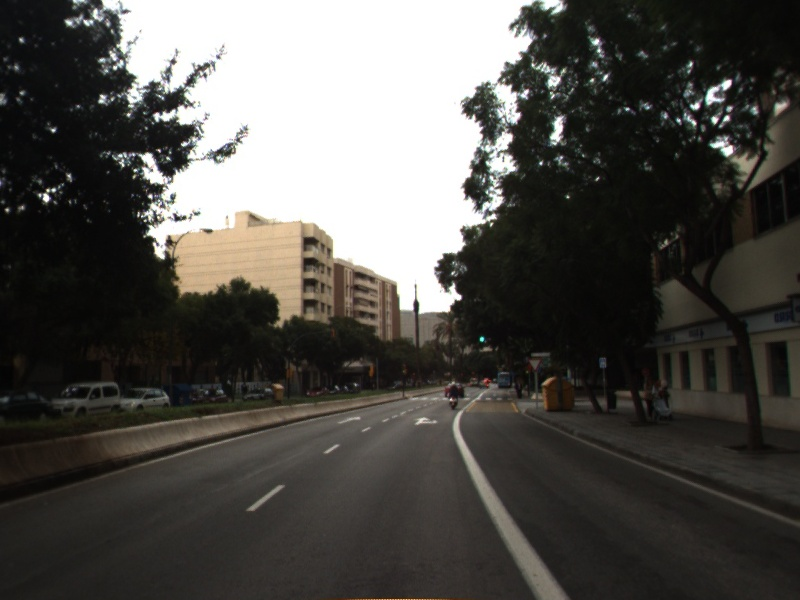STRAIGHT: (335, 413, 363, 426)
STRAIGHT_RIGHT: (411, 414, 441, 427)
